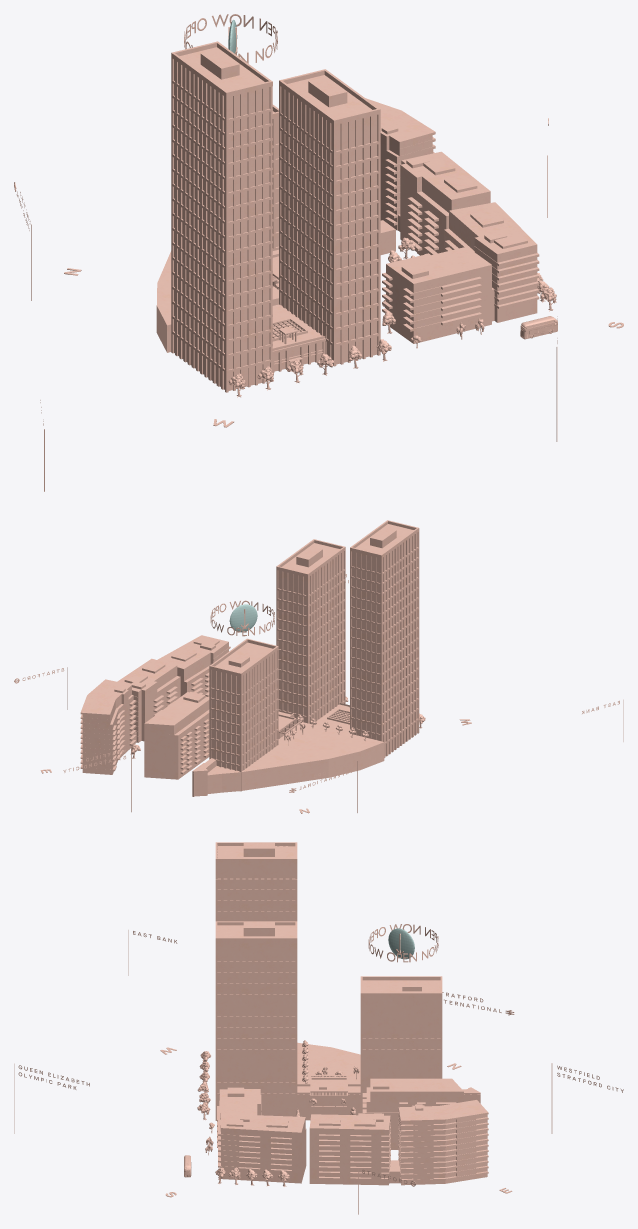
File: CMS17.glb
3 views of the same model, one above another, from view 1: azimuth 30°, elevation 25°; view 2: azimuth 150°, elevation 25°; view 3: azimuth 270°, elevation 25° (orthographic). The views are drawn at different scales.
Parts seen in each view (by area): view 1: Xavier, Bussell, Hows, Sandhu, Bulk, Harrison, Open, Bus; view 2: Xavier, Bussell, Harrison, Bulk, Sandhu, Aarons, Hows, Arrow, Open; view 3: Bussell, Sandhu, Harrison, Hows, Xavier, Bulk, Aarons, Open, Arrow.
Part boxes in pixels (x1=…): Xavier: x1=171, y1=41, x2=272, y2=392; Bussell: x1=279, y1=69, x2=380, y2=366; Hows: x1=382, y1=202, x2=539, y2=343; Sandhu: x1=365, y1=98, x2=490, y2=255; Bulk: x1=31, y1=155, x2=623, y2=491; Harrison: x1=272, y1=104, x2=278, y2=250; Open: x1=184, y1=14, x2=277, y2=63; Bus: x1=520, y1=316, x2=557, y2=339; Xavier: x1=350, y1=520, x2=419, y2=757; Bussell: x1=276, y1=539, x2=345, y2=724; Harrison: x1=192, y1=638, x2=278, y2=796; Bulk: x1=40, y1=667, x2=623, y2=813; Sandhu: x1=80, y1=658, x2=180, y2=774; Aarons: x1=144, y1=691, x2=209, y2=779; Hows: x1=157, y1=635, x2=230, y2=696; Arrow: x1=229, y1=604, x2=257, y2=632; Open: x1=210, y1=600, x2=274, y2=636; Bussell: x1=215, y1=921, x2=298, y2=1120; Sandhu: x1=309, y1=1100, x2=488, y2=1185; Harrison: x1=360, y1=976, x2=480, y2=1113; Hows: x1=217, y1=1087, x2=306, y2=1183; Xavier: x1=215, y1=842, x2=297, y2=921; Bulk: x1=14, y1=930, x2=552, y2=1214; Aarons: x1=362, y1=1078, x2=463, y2=1149; Open: x1=368, y1=924, x2=438, y2=962; Arrow: x1=388, y1=928, x2=414, y2=959.
Bounding box in the file's own units: 308 × 129 × 313.
Materials: 3 (2 with a texture image).
